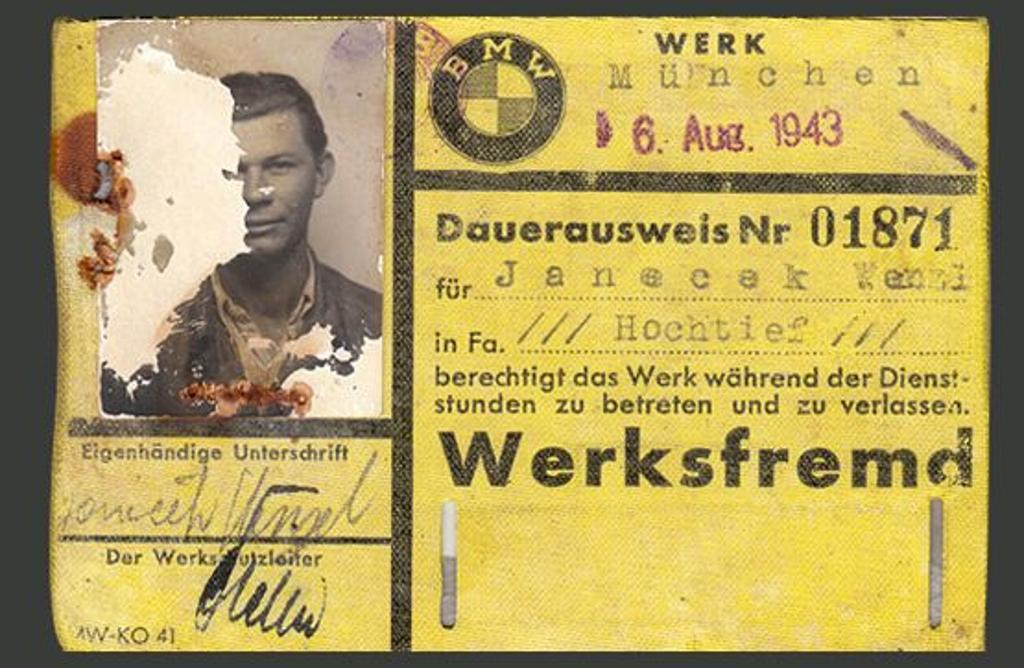face: (220, 118, 310, 248)
